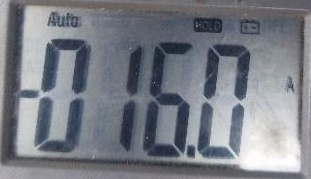ClampMeter_Display: (0, 0, 311, 179)
